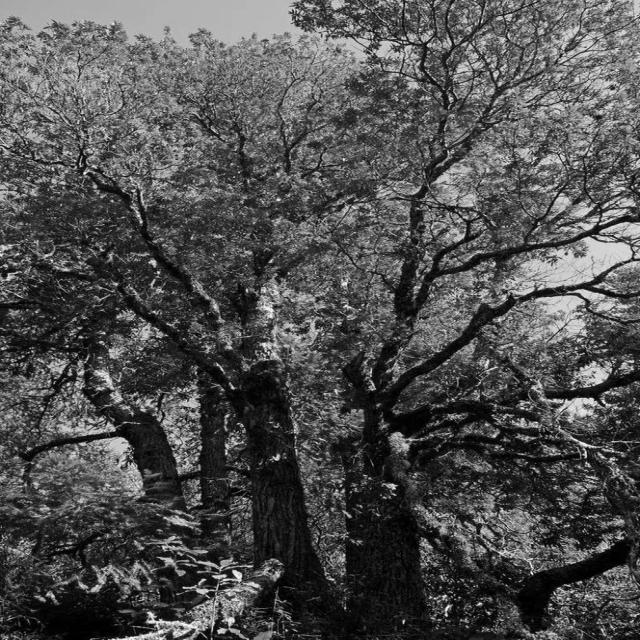Chrysolepis chrysophylla: (6, 23, 640, 621)
